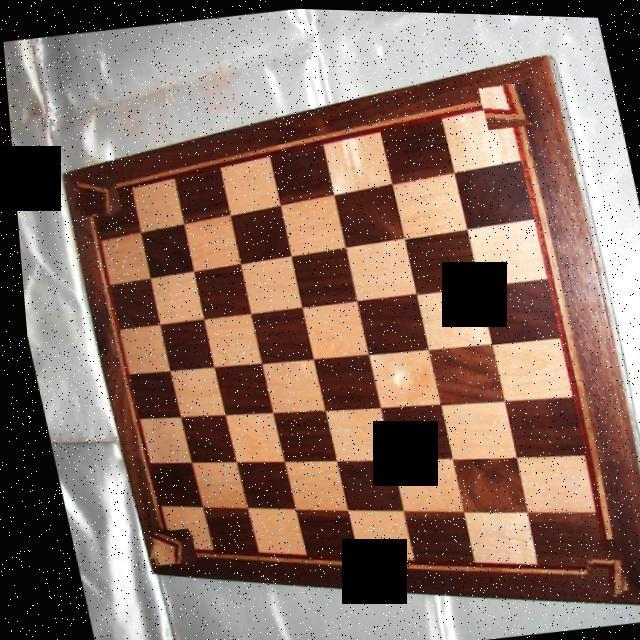chess-table-corners: (566, 534, 620, 596), (66, 168, 119, 220), (477, 79, 531, 128), (136, 524, 188, 570)
